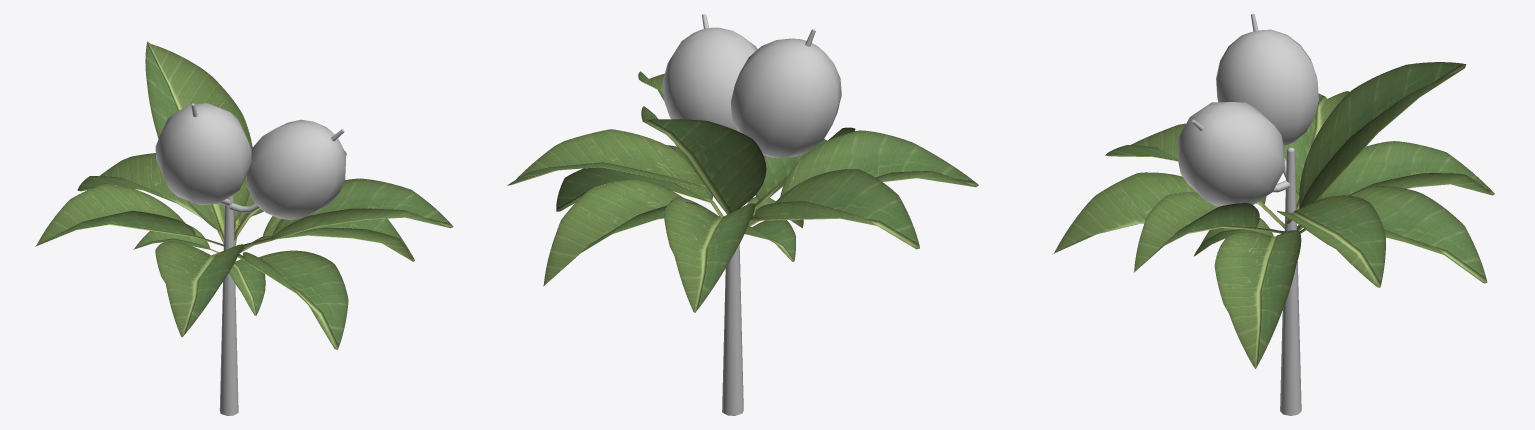
The model's file is Chiku.fbx.
The picture shows the model from 3 angles, left to right: view 1: azimuth 30°, elevation 25°; view 2: azimuth 150°, elevation 25°; view 3: azimuth 270°, elevation 25°; orthographic projection. The views are drawn at different scales.
Visible parts, largest first — view 1: polySurface2, polySurface5, pPlane1, pPlane2, pPlane4, pPlane5, pPlane3, pCylinder1, pPlane7, pPlane9, pPlane11, pPlane10; view 2: polySurface5, polySurface2, pPlane2, pPlane1, pPlane3, pPlane8, pPlane7, pPlane6, pCylinder1, pPlane9, pPlane5, pPlane10; view 3: polySurface2, pPlane1, polySurface5, pPlane9, pPlane7, pPlane8, pPlane6, pPlane5, pPlane4, pCylinder1, pPlane3, pPlane2 (+1 smaller).
Part boxes in pixels (left/top/right/bottom): polySurface2: left=246, top=119, right=345, bottom=220; polySurface5: left=155, top=103, right=251, bottom=205; pPlane1: left=145, top=41, right=252, bottom=239; pPlane2: left=35, top=184, right=225, bottom=246; pPlane4: left=243, top=178, right=453, bottom=247; pPlane5: left=237, top=250, right=348, bottom=349; pPlane3: left=155, top=241, right=243, bottom=337; pCylinder1: left=219, top=195, right=238, bottom=415; pPlane7: left=77, top=153, right=223, bottom=243; pPlane9: left=240, top=216, right=414, bottom=261; pPlane11: left=229, top=259, right=265, bottom=315; pPlane10: left=133, top=225, right=218, bottom=252; polySurface5: left=731, top=38, right=841, bottom=157; polySurface2: left=663, top=27, right=757, bottom=130; pPlane2: left=749, top=169, right=919, bottom=249; pPlane1: left=641, top=106, right=766, bottom=214; pPlane3: left=752, top=130, right=978, bottom=217; pPlane8: left=543, top=179, right=699, bottom=286; pPlane7: left=664, top=197, right=754, bottom=312; pPlane6: left=507, top=129, right=707, bottom=188; pCylinder1: left=722, top=244, right=743, bottom=415; pPlane9: left=556, top=145, right=723, bottom=217; pPlane5: left=754, top=127, right=855, bottom=210; pPlane10: left=744, top=220, right=795, bottom=261; polySurface2: left=1177, top=102, right=1284, bottom=206; pPlane1: left=1296, top=62, right=1466, bottom=222; polySurface5: left=1216, top=29, right=1318, bottom=145; pPlane9: left=1214, top=230, right=1301, bottom=368; pPlane7: left=1297, top=141, right=1494, bottom=231; pPlane8: left=1299, top=186, right=1487, bottom=283; pPlane6: left=1277, top=195, right=1385, bottom=287; pPlane5: left=1052, top=172, right=1281, bottom=254; pPlane4: left=1134, top=192, right=1286, bottom=272; pCylinder1: left=1280, top=147, right=1301, bottom=415; pPlane3: left=1105, top=123, right=1284, bottom=228; pPlane2: left=1283, top=91, right=1349, bottom=209.
Size of the model in its own units: 2.81 by 2.4 by 2.82.
